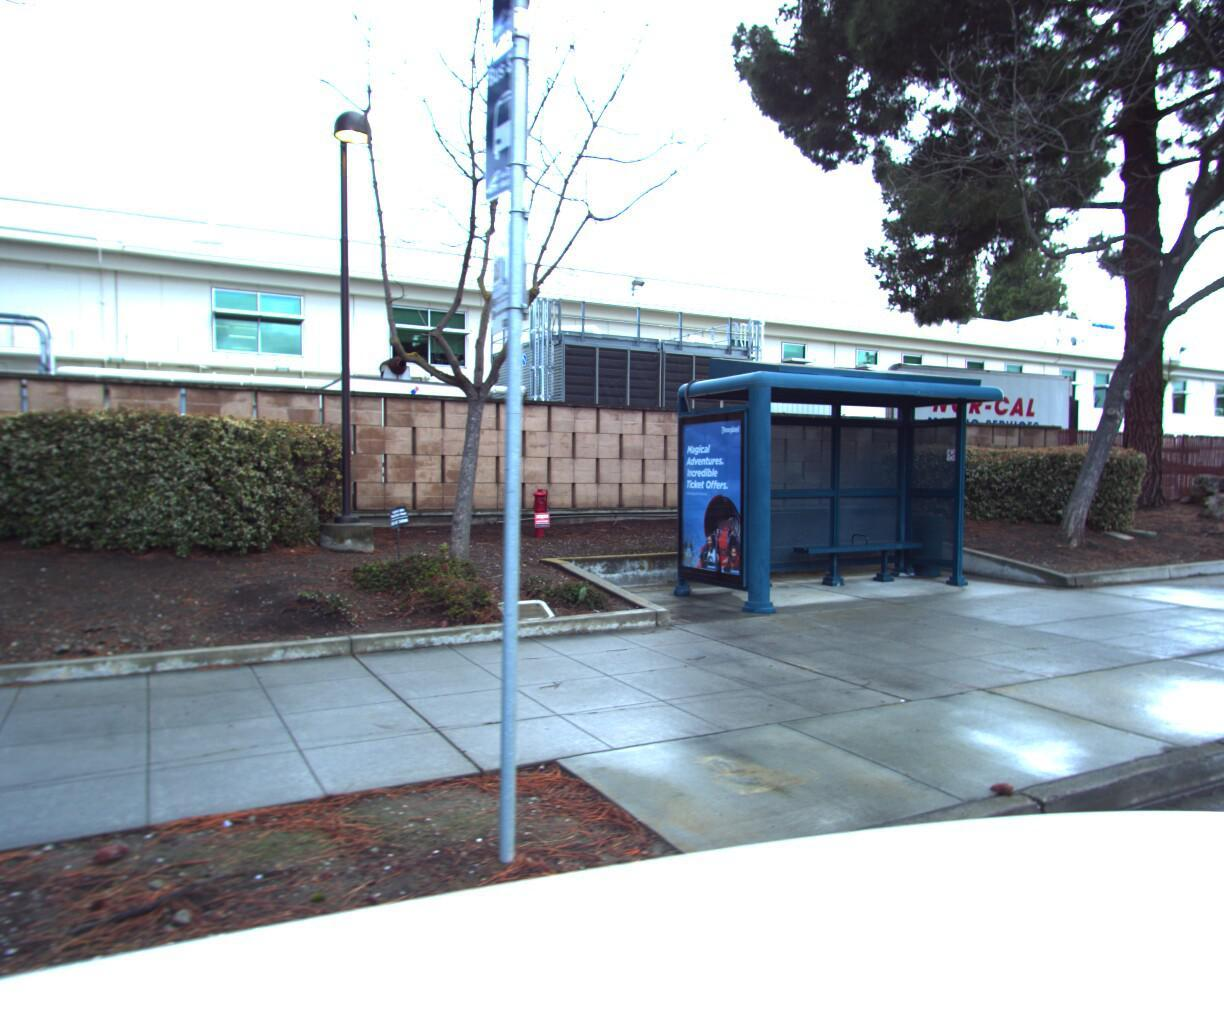truck: (779, 351, 1087, 502)
